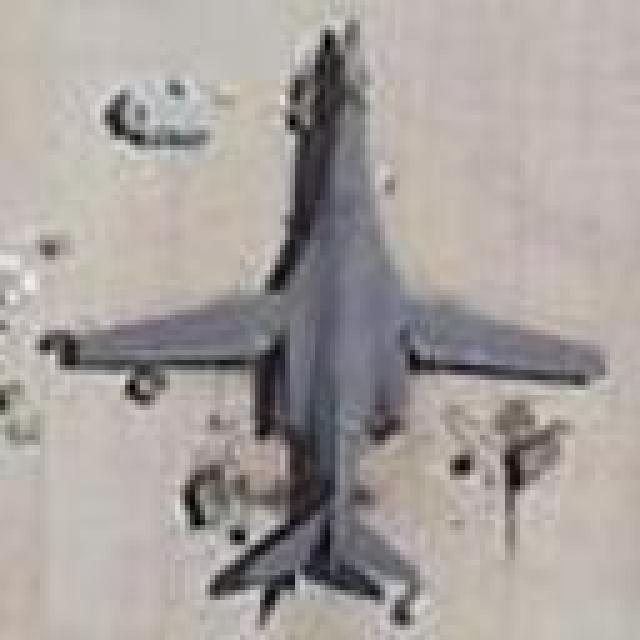B-1_TopDown: (35, 15, 605, 635)
